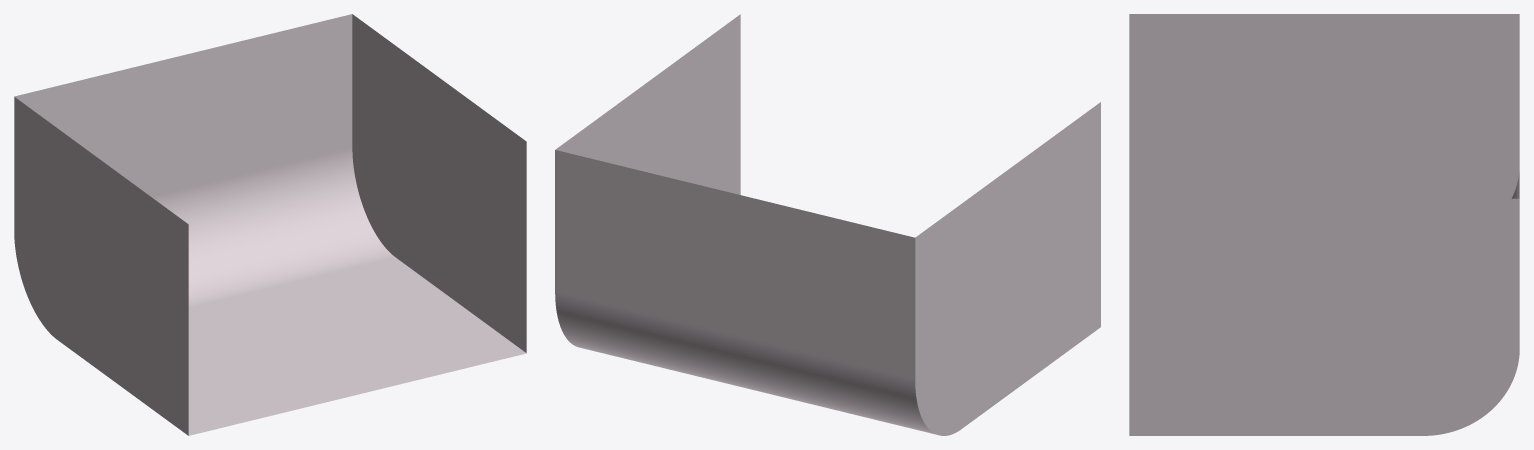
Rendered from OkruzenjeSoba.fbx.
3 renders of one model, left to right at view 1: azimuth 30°, elevation 25°; view 2: azimuth 150°, elevation 25°; view 3: azimuth 270°, elevation 25°, orthographic. The views are drawn at different scales.
Parts seen in each view (by area): view 1: Plane; view 2: Plane; view 3: Plane.
Boxes of the visible parts, x1,y1,x2,y2 form: Plane: (14,14,526,435); Plane: (555,14,1100,435); Plane: (1129,14,1519,435).
Size of the model in its own units: 23827 by 14257 by 21282.
1 material, 1 textured.
